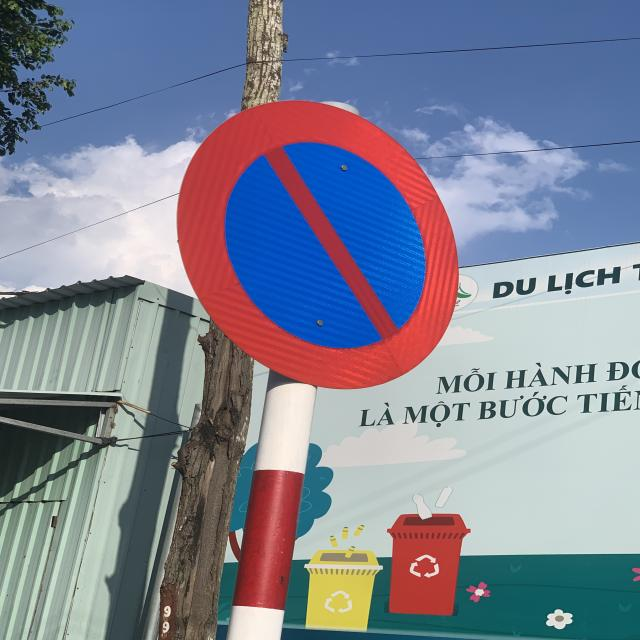Cam_Dau_Xe: (179, 98, 461, 393)
